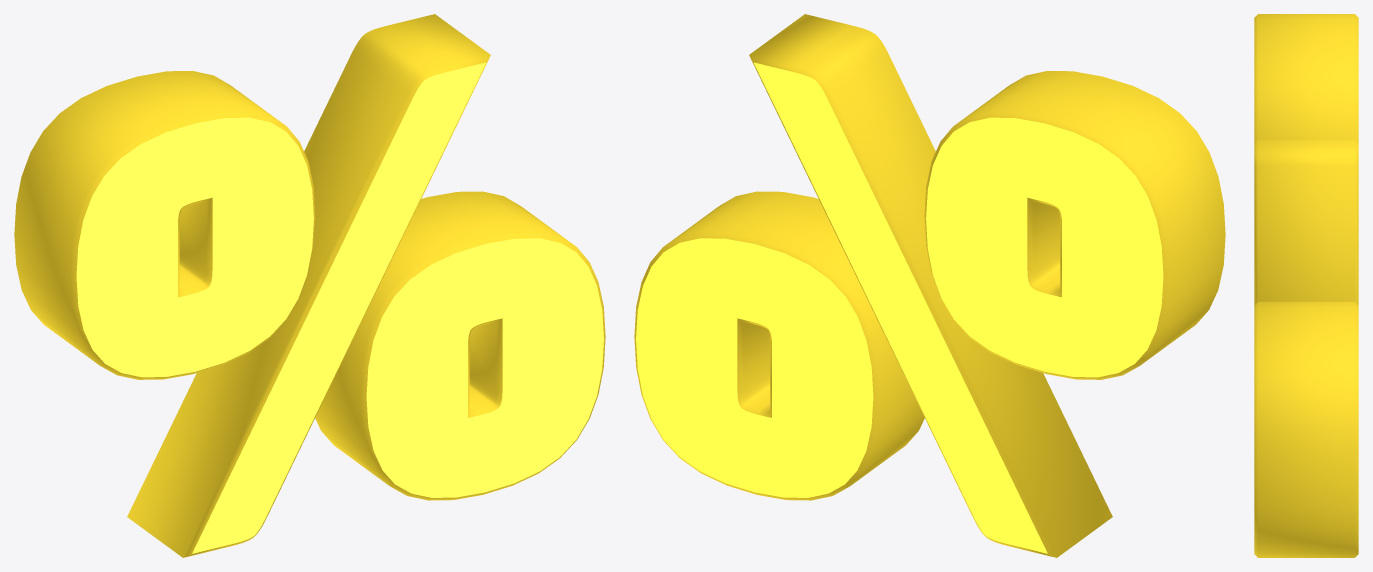
3 views of the same model, side by side, from view 1: azimuth 30°, elevation 25°; view 2: azimuth 150°, elevation 25°; view 3: azimuth 270°, elevation 25° (orthographic). The views are drawn at different scales.
Parts seen in each view (by area): view 1: glyph; view 2: glyph; view 3: glyph.
Boxes of the visible parts, box(x1,y1,x2,y2) form: glyph: box(14, 14, 605, 557); glyph: box(634, 14, 1225, 557); glyph: box(1254, 14, 1358, 557).
Bounding box in the file's own units: 0.0827 × 0.0662 × 0.0162.
